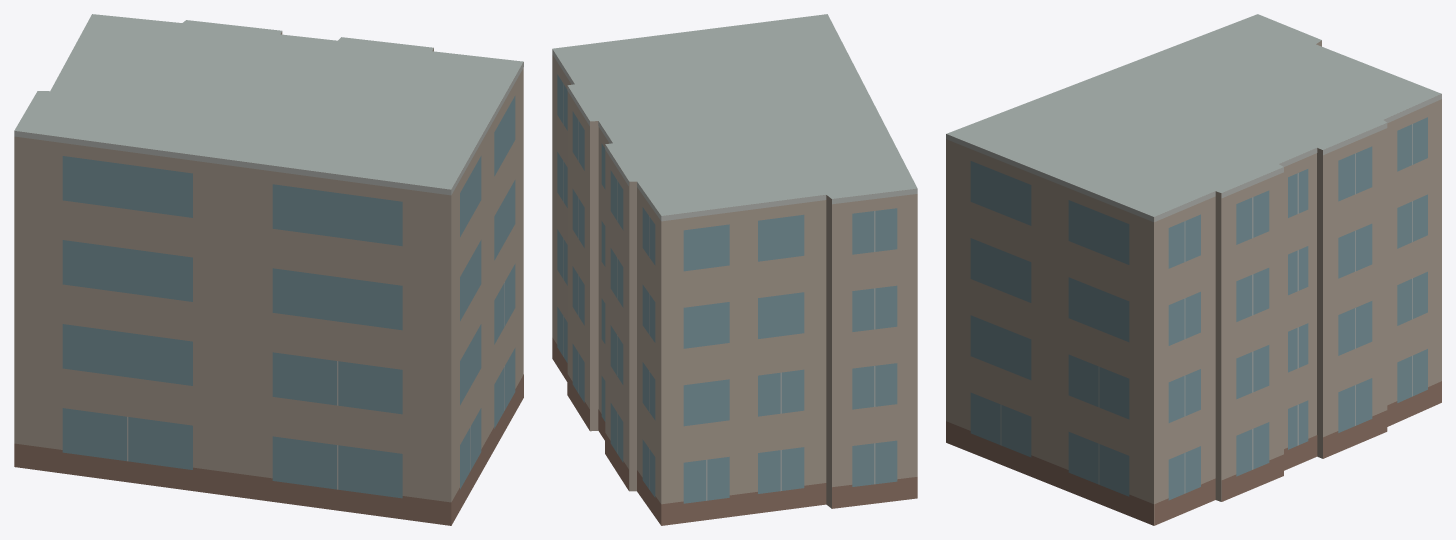
File: survey-upis-32772405.glb
The picture shows the model from 3 angles, left to right: view 1: azimuth 30°, elevation 25°; view 2: azimuth 150°, elevation 25°; view 3: azimuth 270°, elevation 25°; orthographic projection. The views are drawn at different scales.
Parts seen in each view (by area): view 1: survey-upis-32772405.tmp; view 2: survey-upis-32772405.tmp; view 3: survey-upis-32772405.tmp.
Part boxes in pixels (x1,y1,x2,y2): survey-upis-32772405.tmp: (14,14,523,525); survey-upis-32772405.tmp: (552,14,917,525); survey-upis-32772405.tmp: (946,14,1441,525).
Size of the model in its own units: 20.17 by 14.3 by 20.81.
